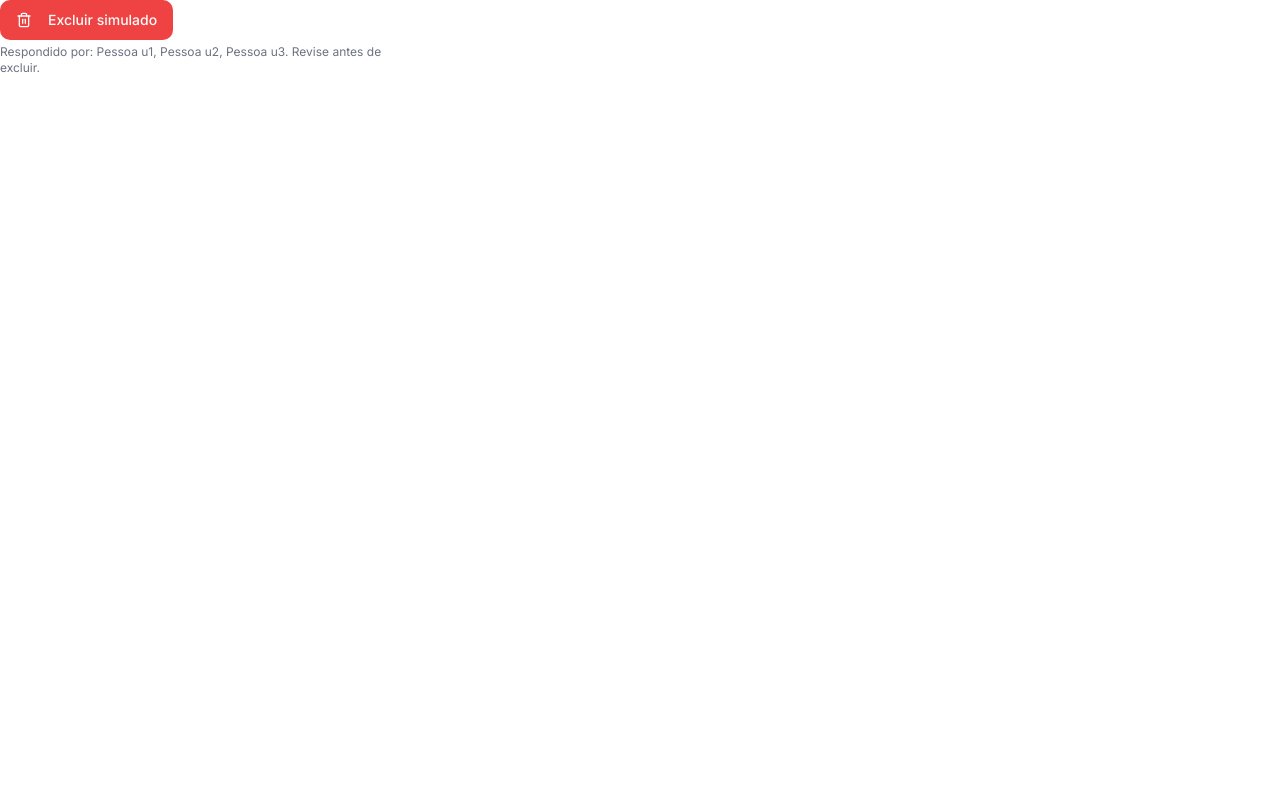
Test case: ExcluirSimuladoButton › 3 respondentes: mostra lista e envia os IDs confirmados
Later steps or results of the test are not shown.
Click the button "Excluir simulado": (87, 20) [0,0,173,40]
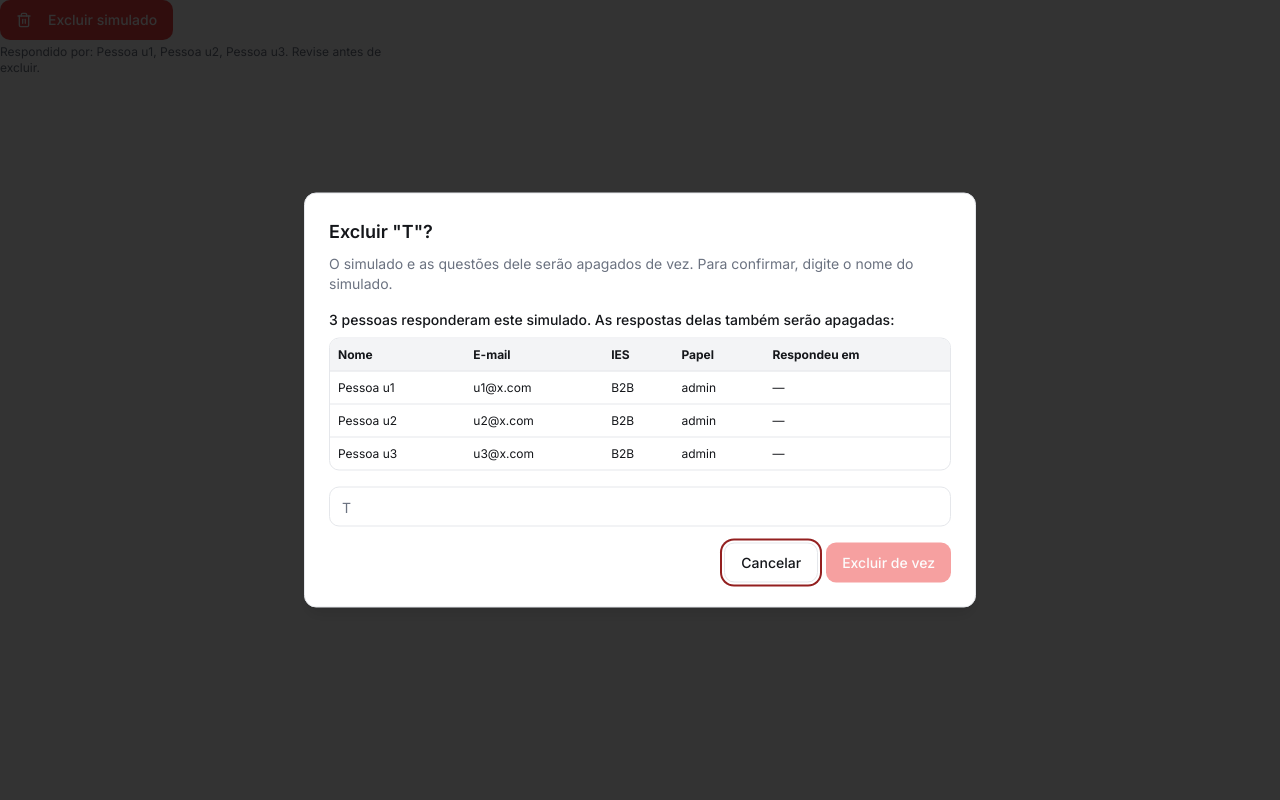
Check: the element with test id "lista-respondentes" is shown, box [329,310,951,470]
Check: the text "Pessoa u2" is shown, box [330,404,465,437]
